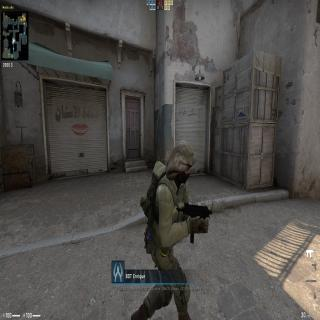CT-Head: (170, 135, 194, 188)
